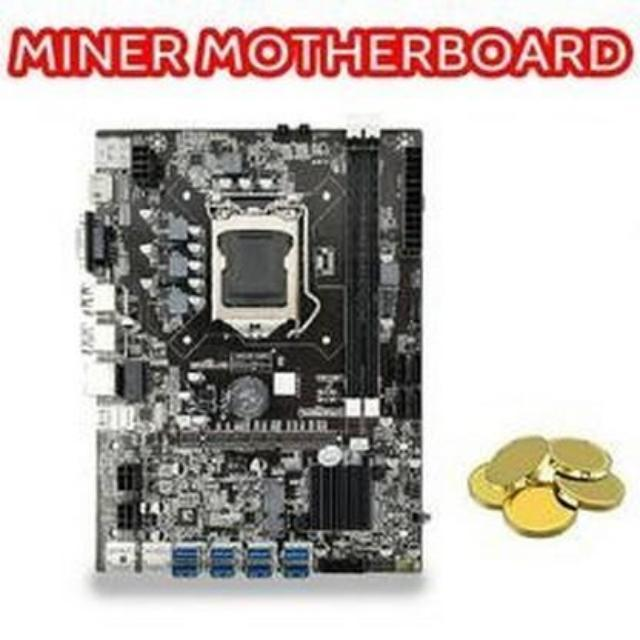Mainboard: (82, 132, 430, 586)
